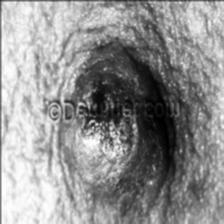Potentially Malignant Skin Tumors: (61, 54, 172, 192)
